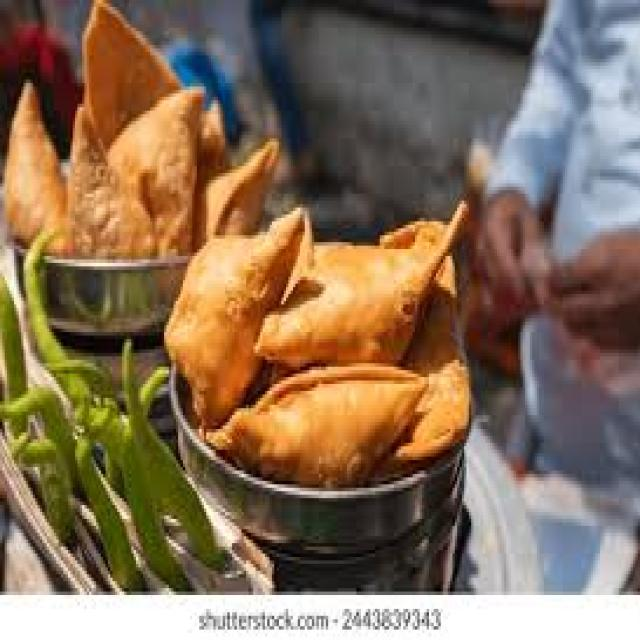SAMOSA: (263, 198, 474, 367), (165, 196, 310, 430), (208, 355, 432, 490), (389, 242, 471, 464), (59, 103, 160, 260), (87, 0, 194, 148), (109, 85, 199, 259), (8, 83, 64, 250), (193, 140, 273, 249)
